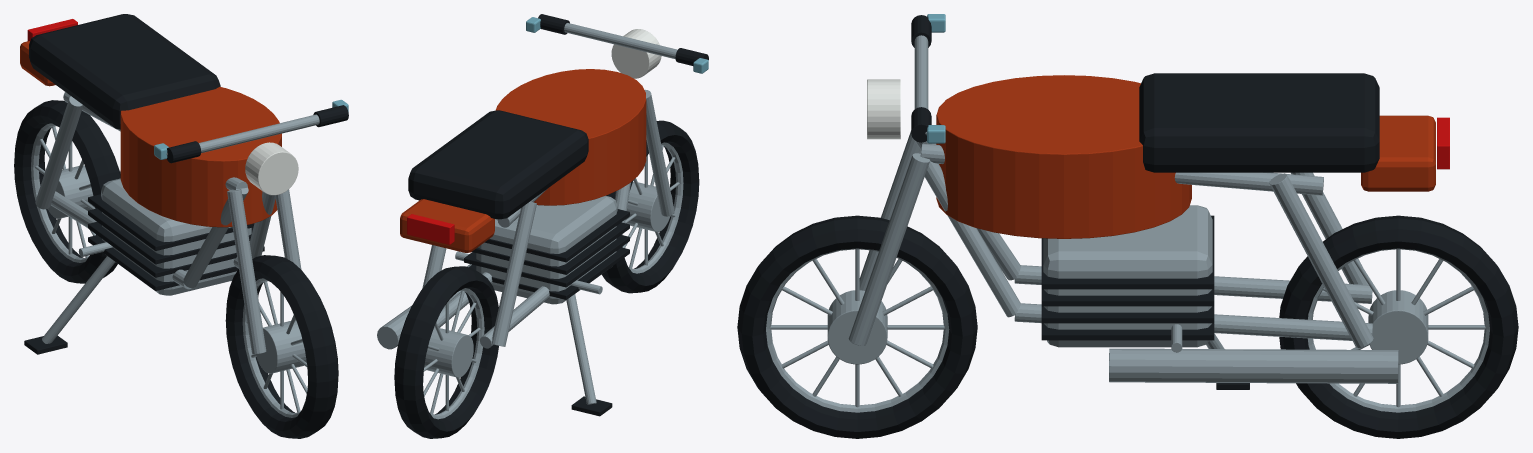
Rendered from edited.glb.
3 views of the same model, side by side, from view 1: azimuth 30°, elevation 25°; view 2: azimuth 150°, elevation 25°; view 3: azimuth 270°, elevation 25° (orthographic). The views are drawn at different scales.
Visible parts, largest first — view 1: FUEL_Tank, SEAT, TYRE, TYRE.001, ENGINE, FRONT_Fork, HEADLIGHT, REAR_Shock, HUB, HANDLEBAR, FRAME_Downtube, ENGINE_Fin.002 (+18 smaller); view 2: SEAT, FUEL_Tank, TYRE.001, ENGINE, TYRE, TAIL, REAR_Shock, HUB.001, FRONT_Fork, HEADLIGHT, HUB, ENGINE_Fin.001 (+18 smaller); view 3: FUEL_Tank, SEAT, TYRE, TYRE.001, ENGINE, EXHAUST, TAIL, REAR_Shock.001, FRONT_Fork.001, HUB.001, FRAME_Lower.001, SPOKES (+16 smaller).
Part boxes in pixels (x1=…): FUEL_Tank: x1=120, y1=87, x2=281, y2=227; SEAT: x1=29, y1=14, x2=220, y2=129; TYRE: x1=225, y1=255, x2=338, y2=438; TYRE.001: x1=14, y1=100, x2=120, y2=283; ENGINE: x1=101, y1=178, x2=251, y2=295; FRONT_Fork: x1=227, y1=189, x2=266, y2=354; HEADLIGHT: x1=245, y1=142, x2=298, y2=195; REAR_Shock: x1=35, y1=96, x2=83, y2=209; HUB: x1=255, y1=320, x2=306, y2=373; HANDLEBAR: x1=199, y1=114, x2=319, y2=153; FRAME_Downtube: x1=183, y1=187, x2=248, y2=288; ENGINE_Fin.002: x1=88, y1=208, x2=253, y2=264; SEAT: x1=408, y1=110, x2=588, y2=219; FUEL_Tank: x1=495, y1=69, x2=646, y2=205; TYRE.001: x1=394, y1=266, x2=498, y2=438; ENGINE: x1=476, y1=195, x2=617, y2=304; TYRE: x1=601, y1=120, x2=699, y2=293; TAIL: x1=400, y1=199, x2=494, y2=252; REAR_Shock: x1=492, y1=201, x2=536, y2=346; HUB.001: x1=424, y1=327, x2=473, y2=377; FRONT_Fork: x1=644, y1=89, x2=674, y2=216; HEADLIGHT: x1=611, y1=29, x2=661, y2=78; HUB: x1=625, y1=182, x2=672, y2=232; ENGINE_Fin.001: x1=464, y1=235, x2=629, y2=287; FUEL_Tank: x1=936, y1=75, x2=1191, y2=238; SEAT: x1=1139, y1=73, x2=1379, y2=172; TYRE: x1=737, y1=215, x2=977, y2=438; TYRE.001: x1=1279, y1=215, x2=1518, y2=438; ENGINE: x1=1043, y1=205, x2=1212, y2=347; EXHAUST: x1=1109, y1=348, x2=1398, y2=383; TAIL: x1=1361, y1=115, x2=1435, y2=191; REAR_Shock.001: x1=1269, y1=173, x2=1373, y2=347; FRONT_Fork.001: x1=848, y1=153, x2=930, y2=345; HUB.001: x1=1368, y1=290, x2=1428, y2=364; FRAME_Lower.001: x1=1014, y1=303, x2=1372, y2=340; SPOKES: x1=770, y1=249, x2=944, y2=407.
Bounding box in the file's own units: 0.78 × 1.08 × 2.08.
